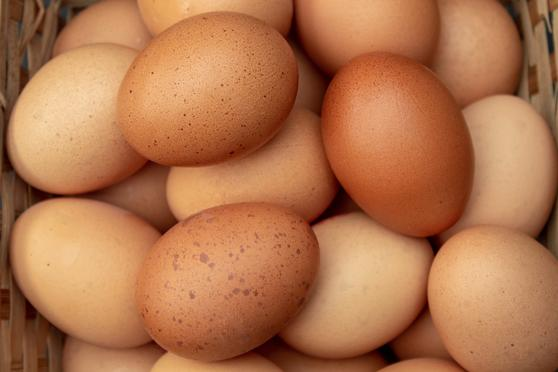egg: (318, 53, 474, 246), (136, 201, 317, 361), (123, 12, 300, 167)
